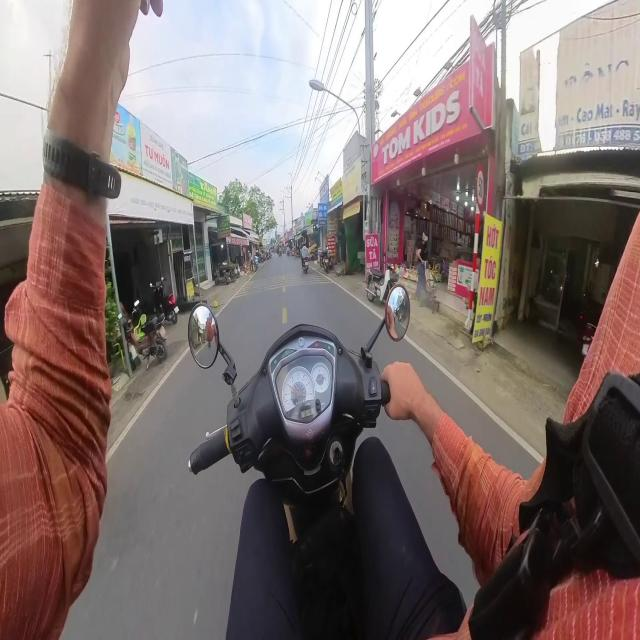motorcycle: (188, 285, 409, 638), (125, 300, 167, 367), (150, 277, 179, 324), (366, 265, 398, 303), (321, 250, 331, 273), (302, 258, 308, 273)
